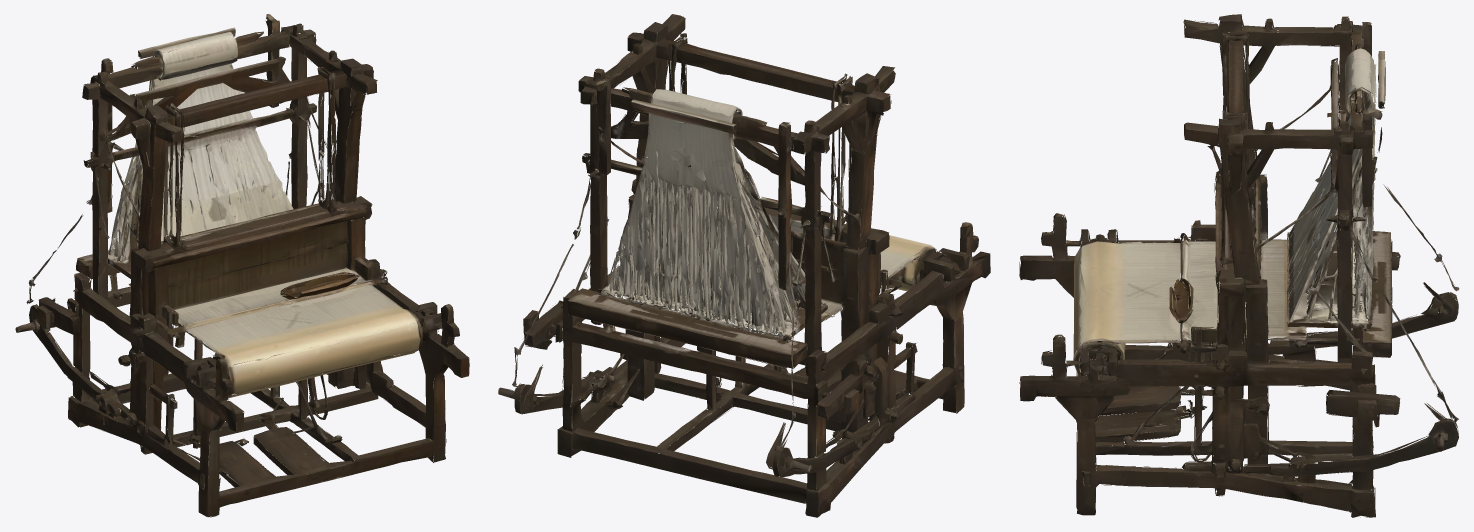
The model's file is loom-mobile.glb.
3 renders of one model, left to right at view 1: azimuth 30°, elevation 25°; view 2: azimuth 150°, elevation 25°; view 3: azimuth 270°, elevation 25°, orthographic. The views are drawn at different scales.
Parts seen in each view (by area): view 1: loom_lux3d; view 2: loom_lux3d; view 3: loom_lux3d.
Part boxes in pixels (x1=…): loom_lux3d: x1=15, y1=14, x2=469, y2=517; loom_lux3d: x1=498, y1=14, x2=990, y2=517; loom_lux3d: x1=1019, y1=14, x2=1459, y2=517.
Bounding box in the file's own units: 5.2 × 5.81 × 6.
1 material, 1 textured.
